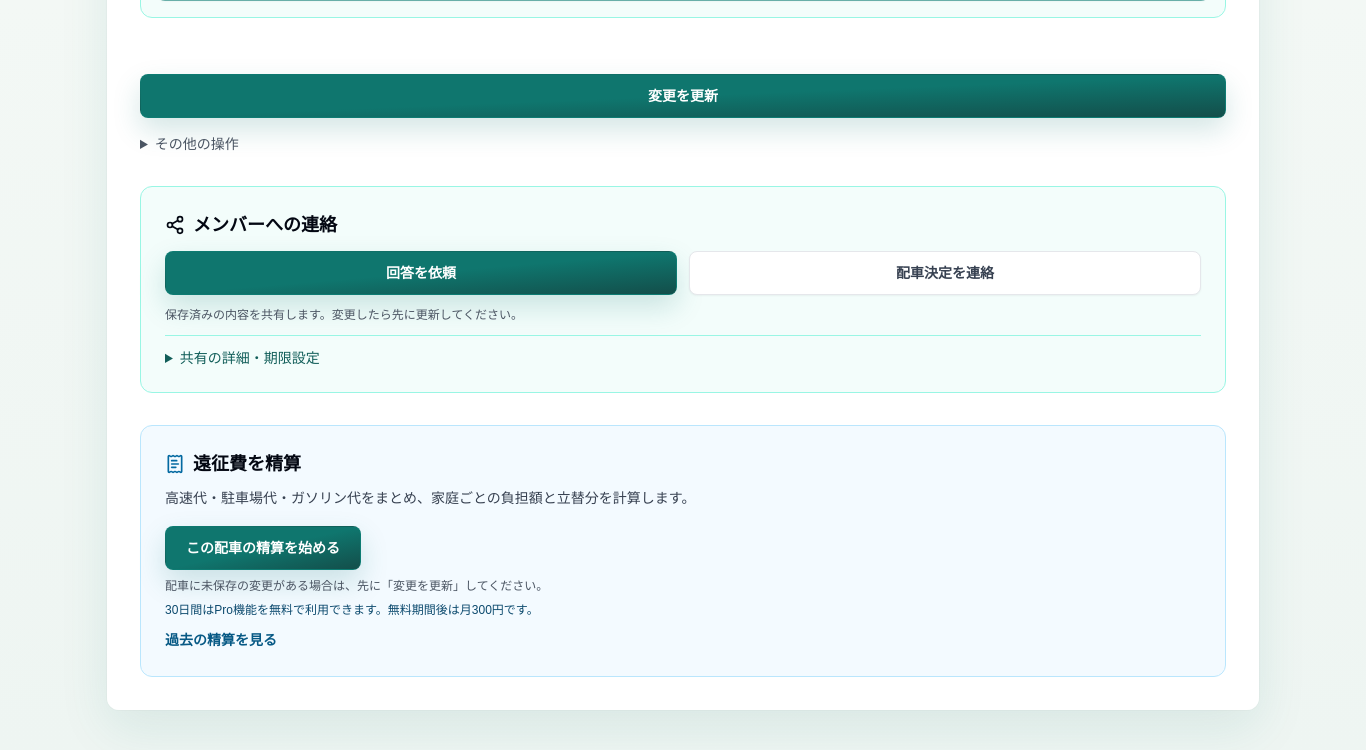
無料体験利用済みなら月300円のPro案内を表示して精算を作らない
(page scrolled)
Click the button "この配車の精算を始める": (263, 548) x1=165 y1=526 x2=361 y2=570
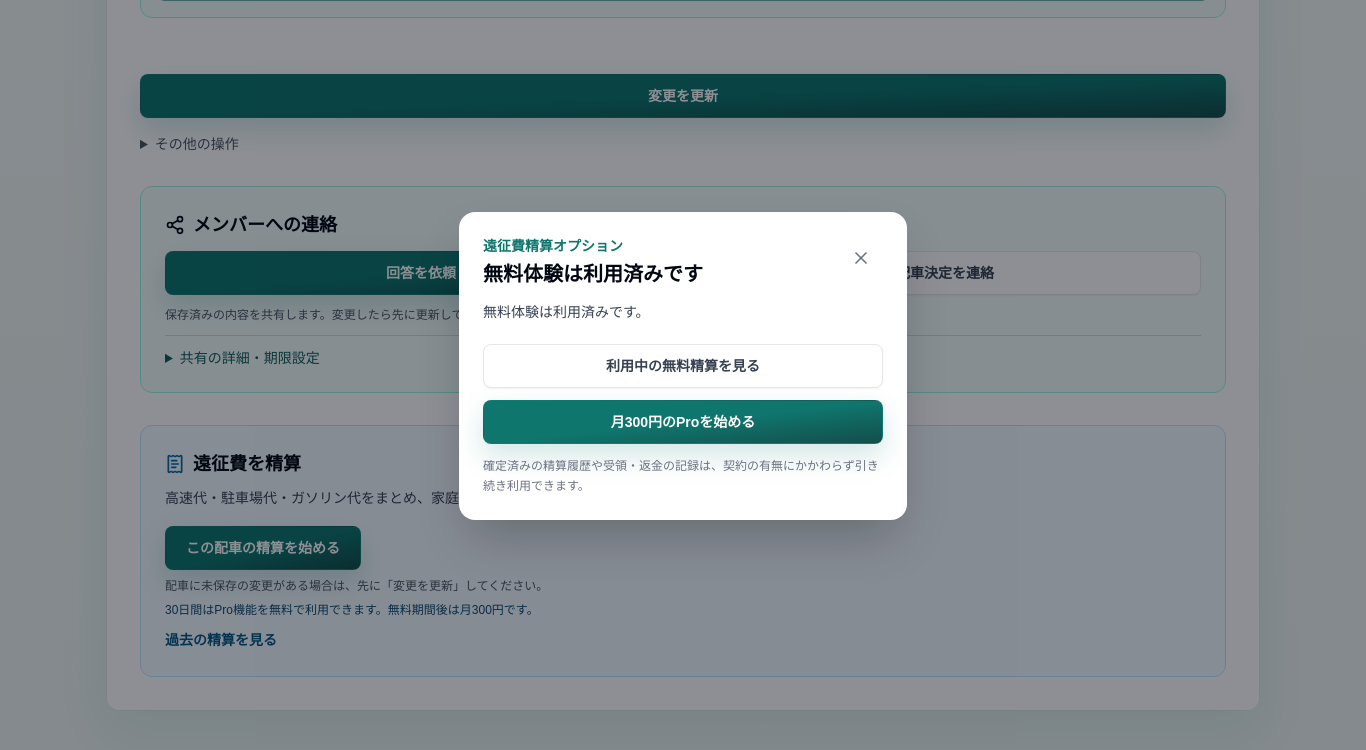
Expected: the dialog "無料体験は利用済みです" is shown, x1=459 y1=212 x2=907 y2=520
Expected: the button "月300円のProを始める" is enabled, x1=483 y1=400 x2=883 y2=444
